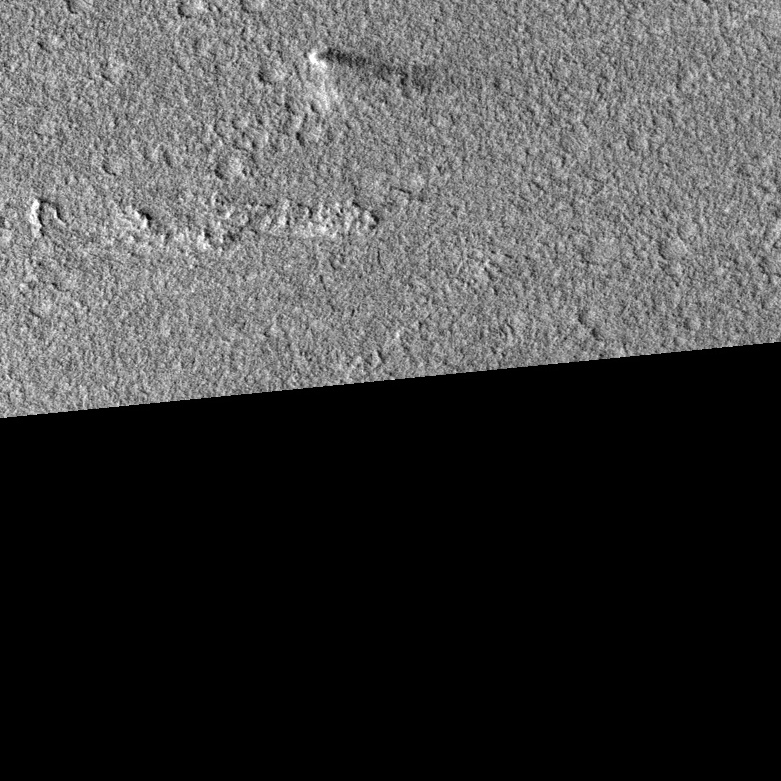dust_devil: (308, 45, 437, 113)
